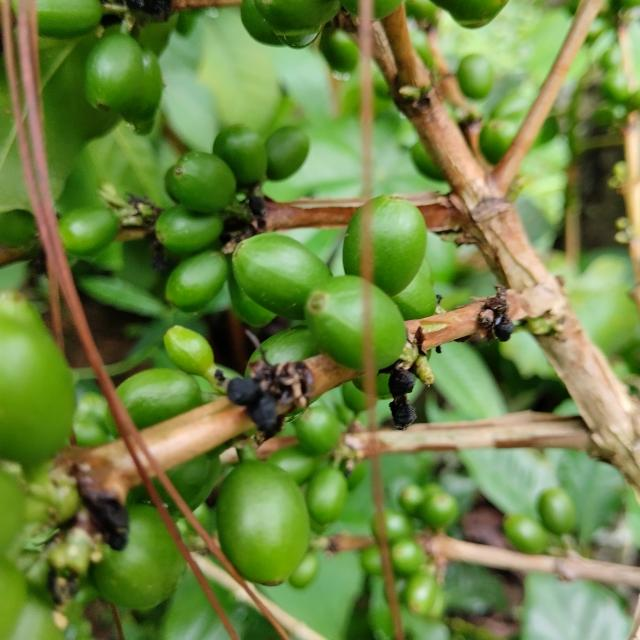green: (216, 461, 309, 587), (232, 232, 332, 319), (305, 275, 363, 371), (372, 195, 427, 296), (116, 368, 202, 429), (84, 32, 142, 111), (165, 151, 236, 213), (165, 250, 228, 312), (212, 124, 267, 186), (155, 204, 223, 254), (58, 207, 118, 257), (372, 285, 407, 370), (392, 258, 437, 320), (163, 325, 214, 376), (265, 126, 310, 180), (306, 468, 348, 525), (343, 207, 363, 275)
